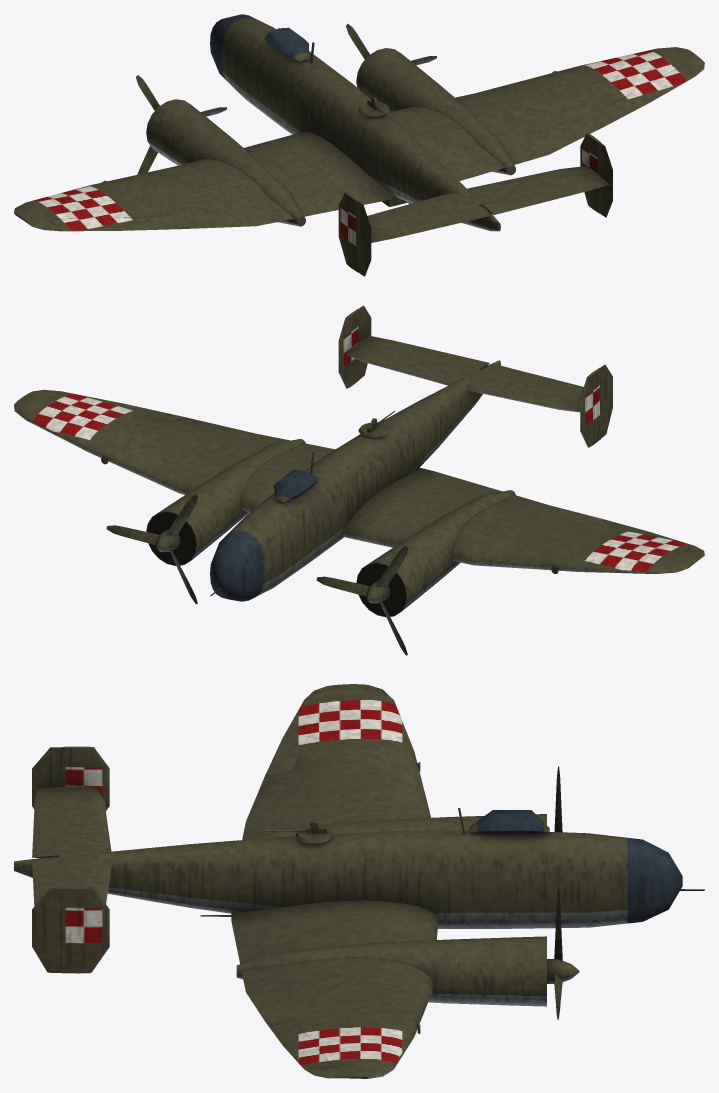
The model's file is PZL37B.fbx.
The picture shows the model from 3 angles, top to bottom: view 1: azimuth 30°, elevation 25°; view 2: azimuth 150°, elevation 25°; view 3: azimuth 270°, elevation 25°; orthographic projection. The views are drawn at different scales.
Parts seen in each view (by area): view 1: Chassis, Aileron_D, Aileron_G, Rudder, Elevator_D, Elevator_G, Helice_LS_1, Helice_LS_2; view 2: Chassis, Helice_LS_1, Helice_LS_2, Rudder, Elevator_D, Elevator_G, Aileron_D, Aileron_G; view 3: Chassis, Rudder, Aileron_G, Elevator_G, Aileron_D, Elevator_D, Helice_LS_2.
Boxes of the visible parts, left/top/right/bottom form: Chassis: left=14, top=14, right=704, bottom=272; Aileron_D: left=593, top=64, right=694, bottom=126; Aileron_G: left=49, top=215, right=183, bottom=231; Rudder: left=358, top=143, right=612, bottom=276; Elevator_D: left=482, top=176, right=609, bottom=214; Elevator_G: left=371, top=205, right=489, bottom=242; Helice_LS_1: left=136, top=75, right=226, bottom=174; Helice_LS_2: left=346, top=24, right=436, bottom=65; Chassis: left=14, top=309, right=704, bottom=617; Helice_LS_1: left=316, top=545, right=408, bottom=655; Helice_LS_2: left=106, top=494, right=198, bottom=603; Rudder: left=359, top=305, right=612, bottom=437; Elevator_D: left=360, top=336, right=489, bottom=369; Elevator_G: left=482, top=364, right=583, bottom=395; Aileron_D: left=49, top=391, right=183, bottom=420; Aileron_G: left=593, top=519, right=694, bottom=550; Chassis: left=14, top=684, right=682, bottom=1078; Rudder: left=32, top=747, right=61, bottom=972; Aileron_G: left=265, top=695, right=332, bottom=775; Elevator_G: left=32, top=787, right=60, bottom=858; Aileron_D: left=265, top=1015, right=331, bottom=1069; Elevator_D: left=32, top=857, right=60, bottom=906; Helice_LS_2: left=554, top=889, right=562, bottom=1019.
Size of the model in its own units: 1793 by 1335 by 358.
1 material, 1 textured.
